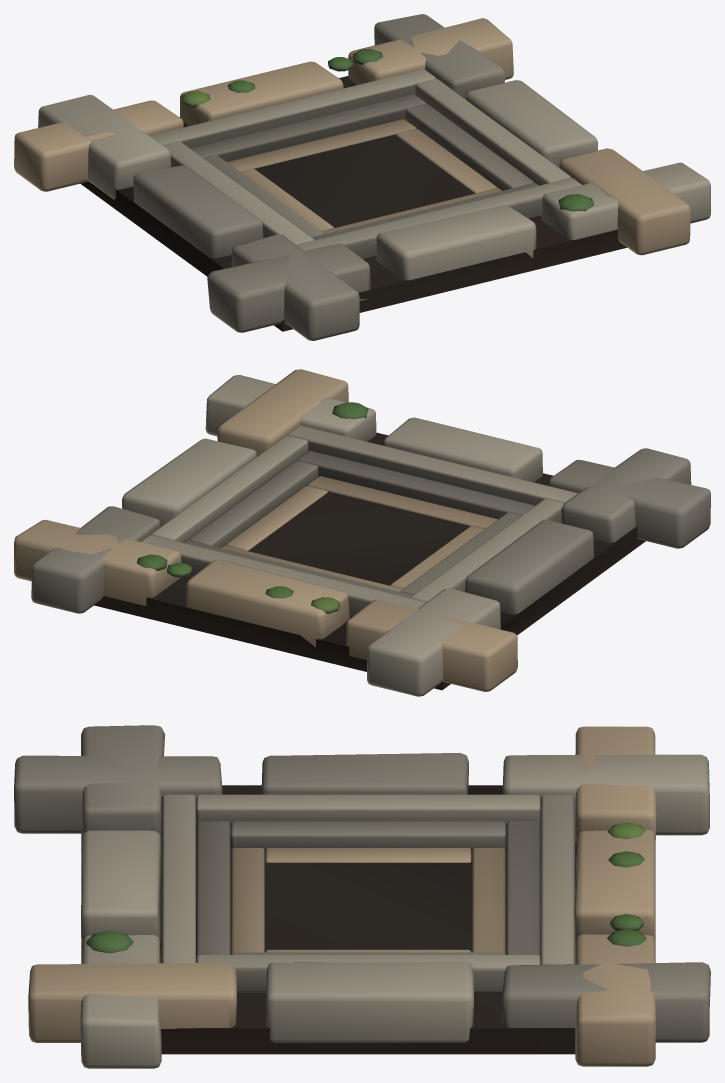
The model's file is kit_stairs.glb.
The picture shows the model from 3 angles, top to bottom: view 1: azimuth 30°, elevation 25°; view 2: azimuth 150°, elevation 25°; view 3: azimuth 270°, elevation 25°; orthographic projection. The views are drawn at different scales.
Visible parts, largest first — view 1: kit_stairs; view 2: kit_stairs; view 3: kit_stairs.
Boxes of the visible parts, bbox=[...] form: kit_stairs: bbox=[14, 14, 710, 340]; kit_stairs: bbox=[14, 369, 710, 696]; kit_stairs: bbox=[14, 725, 710, 1068].
Bounding box in the file's own units: 1.22 × 0.1461 × 1.21.
